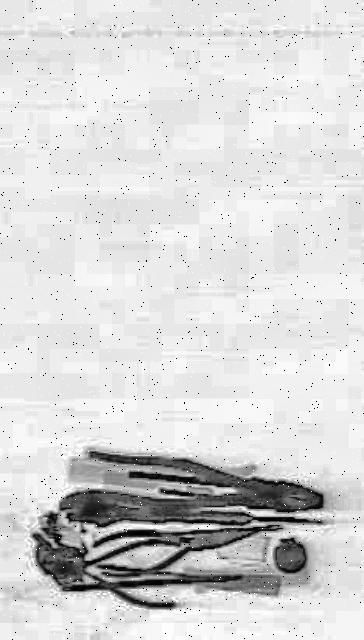Pliers: (80, 444, 324, 526), (88, 502, 282, 582), (63, 522, 177, 608)
